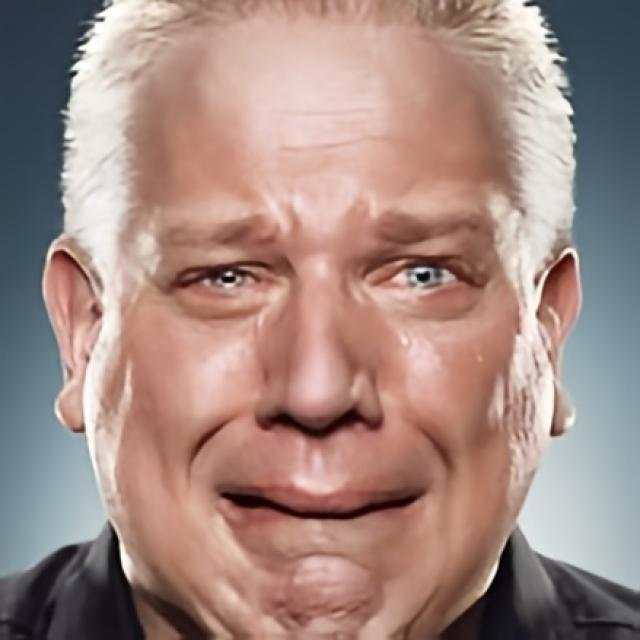sad: (104, 25, 536, 640)
